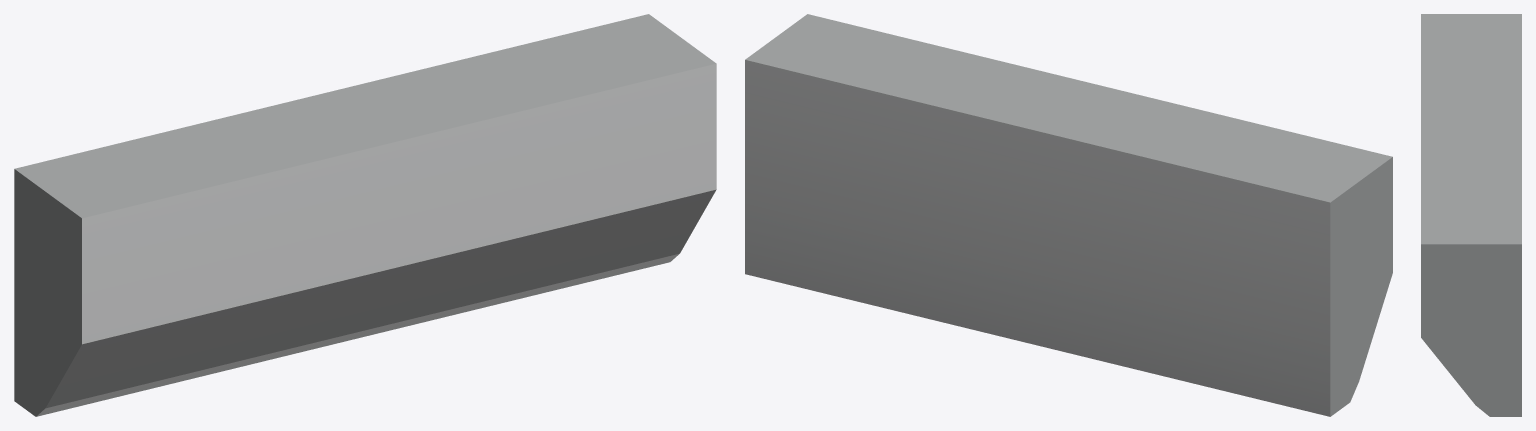
The model's file is Wall_type_A_006.fbx.
The picture shows the model from 3 angles, left to right: view 1: azimuth 30°, elevation 25°; view 2: azimuth 150°, elevation 25°; view 3: azimuth 270°, elevation 25°; orthographic projection. The views are drawn at different scales.
Visible parts, largest first — view 1: Wall_type_A_006; view 2: Wall_type_A_006; view 3: Wall_type_A_006.
Boxes of the visible parts, x1,y1,x2,y2 form: Wall_type_A_006: (14,14,716,416); Wall_type_A_006: (745,14,1392,416); Wall_type_A_006: (1421,14,1521,416).
Bounding box in the file's own units: 200 × 37 × 70.
